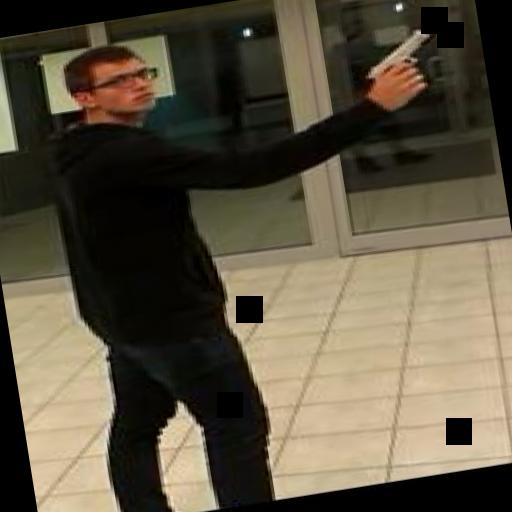Handgun: (350, 26, 437, 98)
